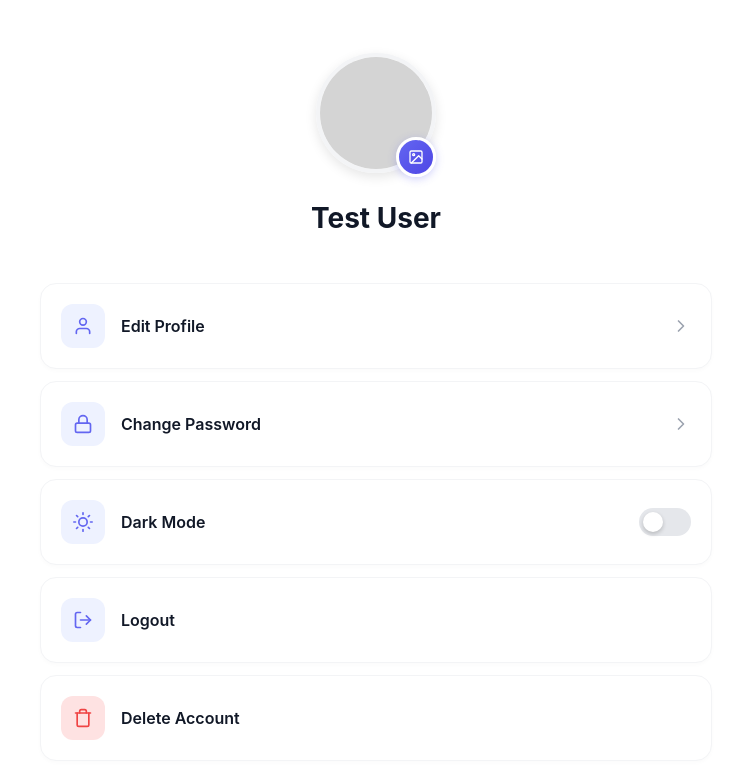
Test: Profile Edit Feature › should switch to edit mode when Edit Profile button is clicked
Check: the text "Edit Profile" is shown, box [121,316,205,336]
Click the button "Edit Profile" at {"x": 83, "y": 326}, box [40,283,712,369]
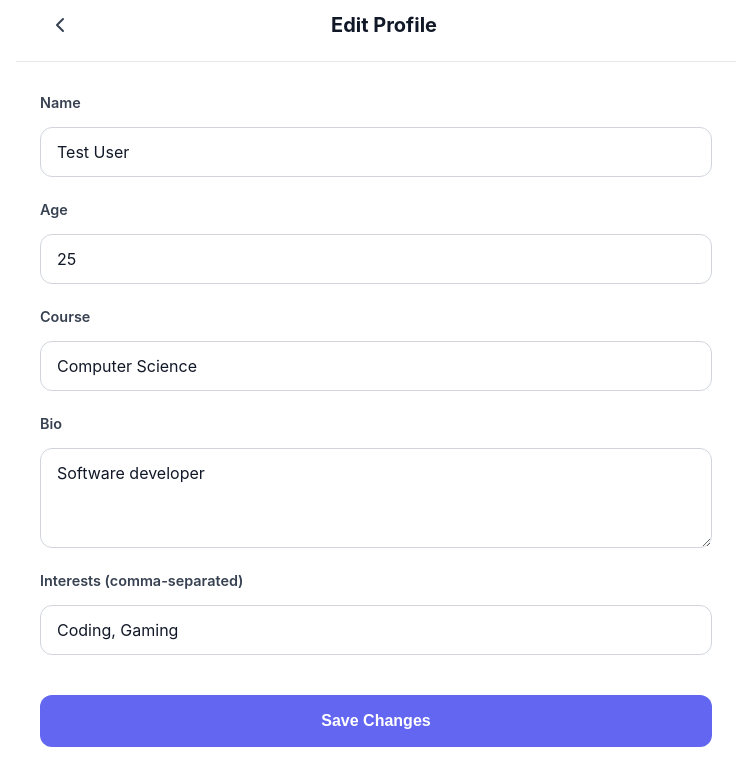
Check: the field showing "Test User" below "Name" is shown, box [40,127,712,177]
Check: the number field showing "25" is shown, box [40,234,712,284]
Check: the field with placeholder "e.g., Computer Science" below "Course" is shown, box [40,341,712,391]
